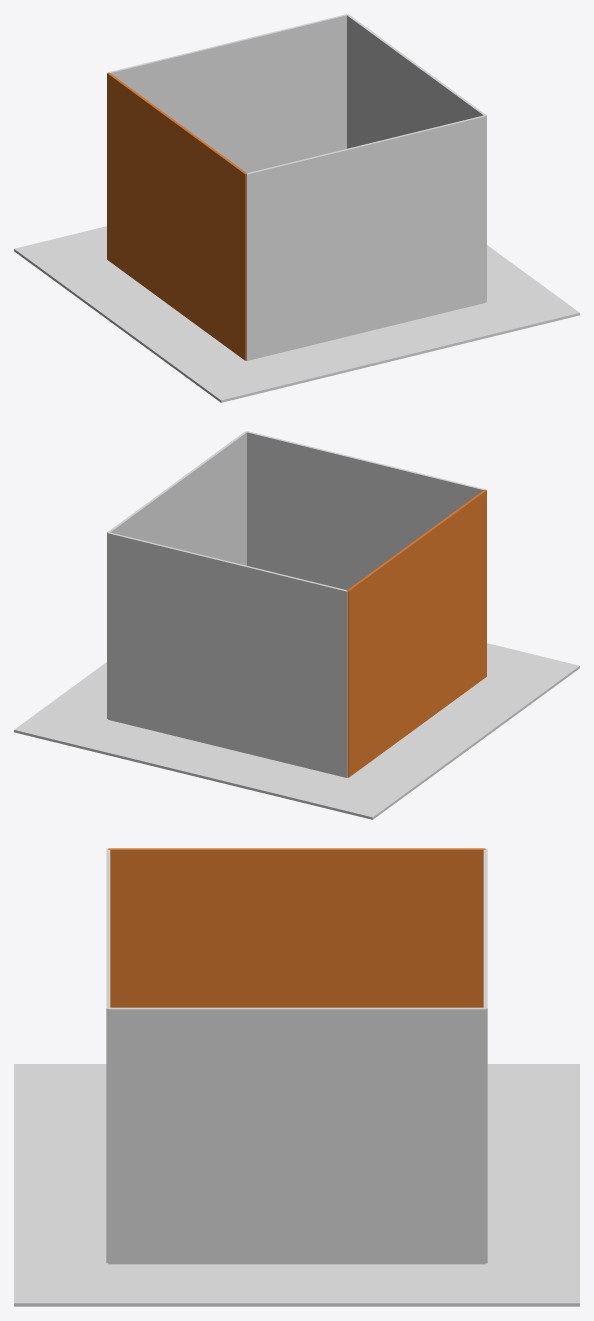
File: level1.glb
The picture shows the model from 3 angles, top to bottom: view 1: azimuth 30°, elevation 25°; view 2: azimuth 150°, elevation 25°; view 3: azimuth 270°, elevation 25°; orthographic projection. The views are drawn at different scales.
Parts seen in each view (by area): view 1: Wall.001, Wall, Floor, Wall.003, Wall.002; view 2: Wall.003, Wall, Floor, Wall.001, Wall.002; view 3: Wall.002, Floor, Wall, Wall.001, Wall.003.
Part boxes in pixels (bbox=[...]): Wall.001: bbox=[246, 115, 486, 360]; Wall: bbox=[107, 72, 247, 360]; Floor: bbox=[14, 226, 579, 402]; Wall.003: bbox=[107, 14, 346, 172]; Wall.002: bbox=[347, 14, 486, 301]; Wall.003: bbox=[107, 532, 347, 777]; Wall: bbox=[346, 489, 486, 777]; Floor: bbox=[14, 643, 579, 819]; Wall.001: bbox=[246, 431, 486, 589]; Wall.002: bbox=[107, 431, 246, 718]; Wall.002: bbox=[108, 1007, 485, 1264]; Floor: bbox=[14, 1064, 579, 1306]; Wall: bbox=[108, 848, 485, 1007]; Wall.001: bbox=[106, 849, 110, 1263]; Wall.003: bbox=[483, 849, 487, 1263].
Size of the model in its own units: 60 by 30.2 by 60.
